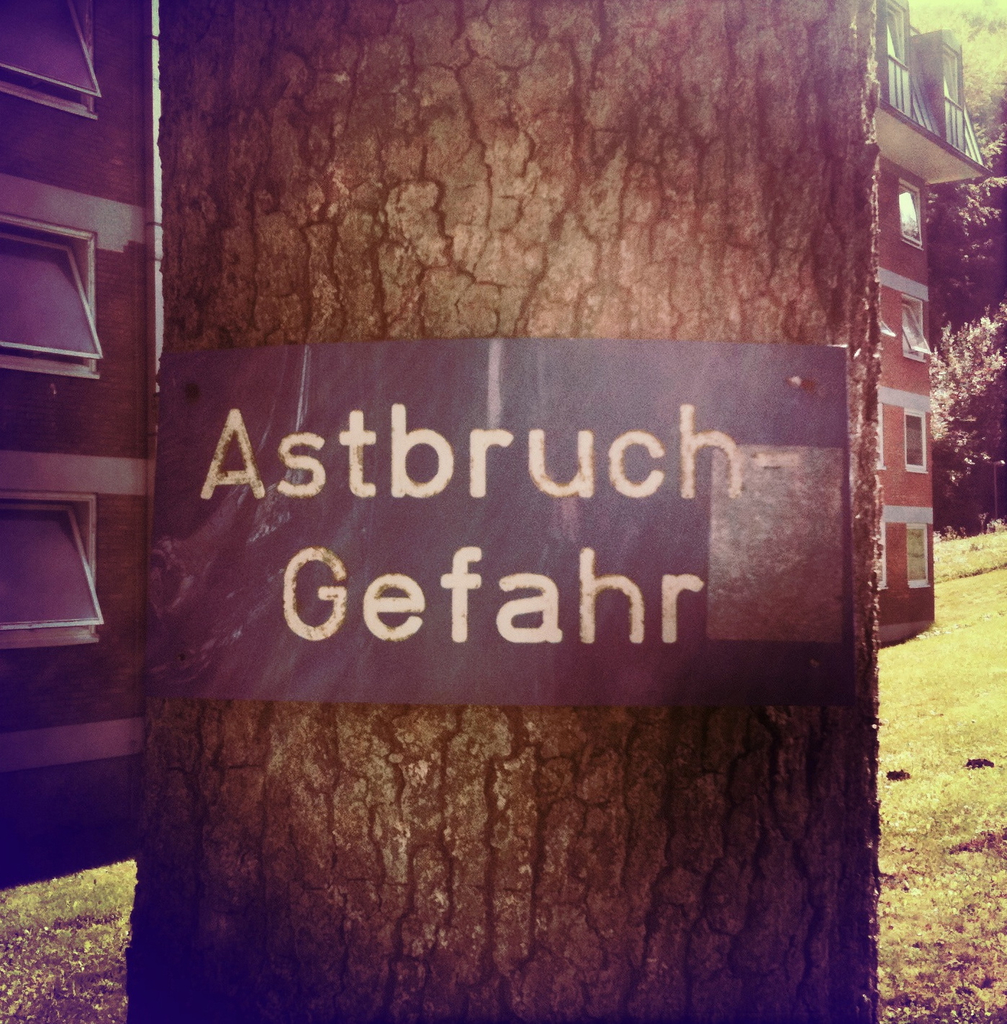Tree: (118, 0, 879, 1023), (908, 0, 1006, 317), (927, 300, 1006, 541)
